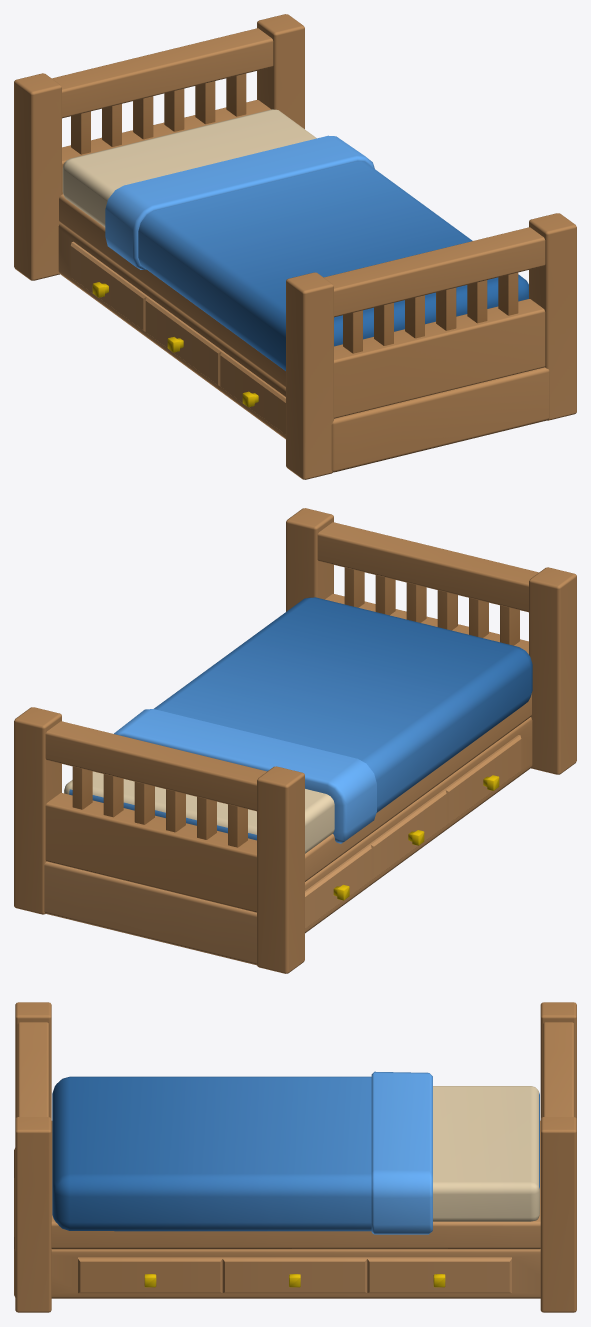
Rendered from Single Bed_13.fbx.
3 renders of one model, top to bottom at view 1: azimuth 30°, elevation 25°; view 2: azimuth 150°, elevation 25°; view 3: azimuth 270°, elevation 25°, orthographic. The views are drawn at different scales.
Parts seen in each view (by area): view 1: Single Bed_13, Single Bed_13 Door_2, Single Bed_13 Door_1, Single Bed_13 Door_3; view 2: Single Bed_13, Single Bed_13 Door_2, Single Bed_13 Door_3, Single Bed_13 Door_1; view 3: Single Bed_13, Single Bed_13 Door_2, Single Bed_13 Door_1, Single Bed_13 Door_3.
Part boxes in pixels (x1=…): Single Bed_13: x1=14, y1=14, x2=576, y2=479; Single Bed_13 Door_2: x1=145, y1=296, x2=222, y2=386; Single Bed_13 Door_1: x1=70, y1=241, x2=147, y2=331; Single Bed_13 Door_3: x1=220, y1=351, x2=285, y2=434; Single Bed_13: x1=14, y1=508, x2=576, y2=973; Single Bed_13 Door_2: x1=369, y1=789, x2=446, y2=879; Single Bed_13 Door_3: x1=444, y1=735, x2=521, y2=824; Single Bed_13 Door_1: x1=305, y1=844, x2=371, y2=928; Single Bed_13: x1=14, y1=1002, x2=576, y2=1312; Single Bed_13 Door_2: x1=222, y1=1257, x2=367, y2=1293; Single Bed_13 Door_1: x1=367, y1=1257, x2=511, y2=1293; Single Bed_13 Door_3: x1=78, y1=1257, x2=222, y2=1293.
Size of the model in its own units: 1.15 by 0.7556 by 2.11.
